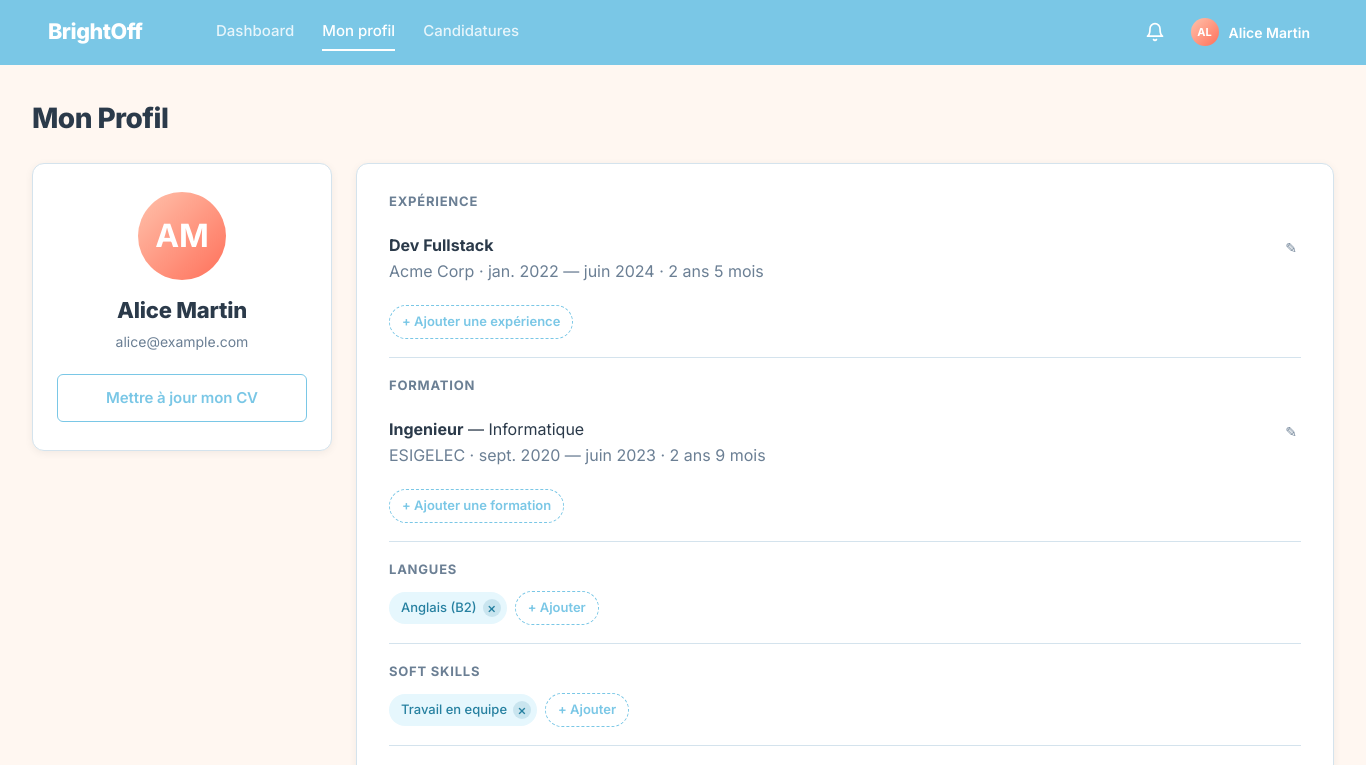
Scenario: ProfilePage › shows_new_language_chip_immediately_before_put_resolves
Expected: the heading "Langues" is shown, [389,560,457,576]
Step 1. Click the button "+ Ajouter" next to "B2" → {"x": 557, "y": 608}, box [515,591,599,624]
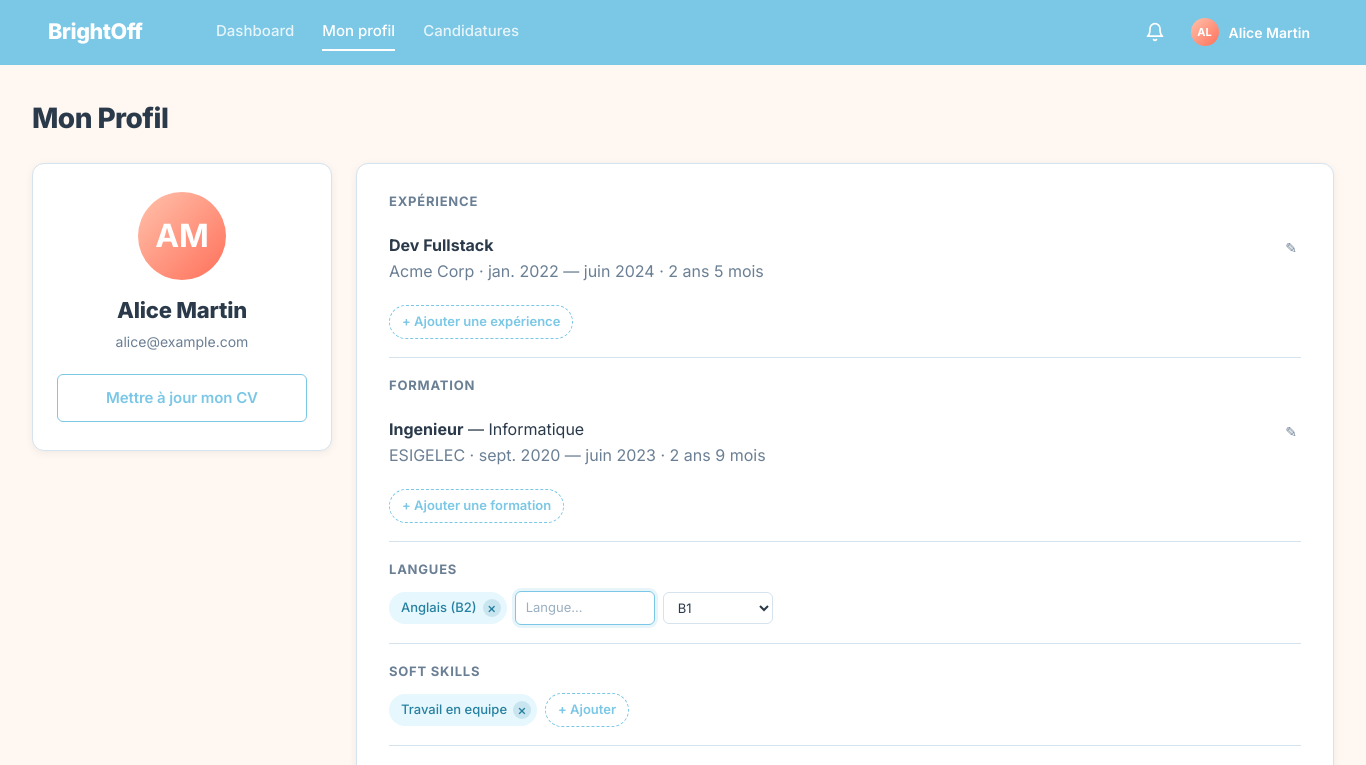
Step 2. Type "Japonais" into the field with placeholder "Langue..." → {"x": 585, "y": 608}, box [515,591,655,624]
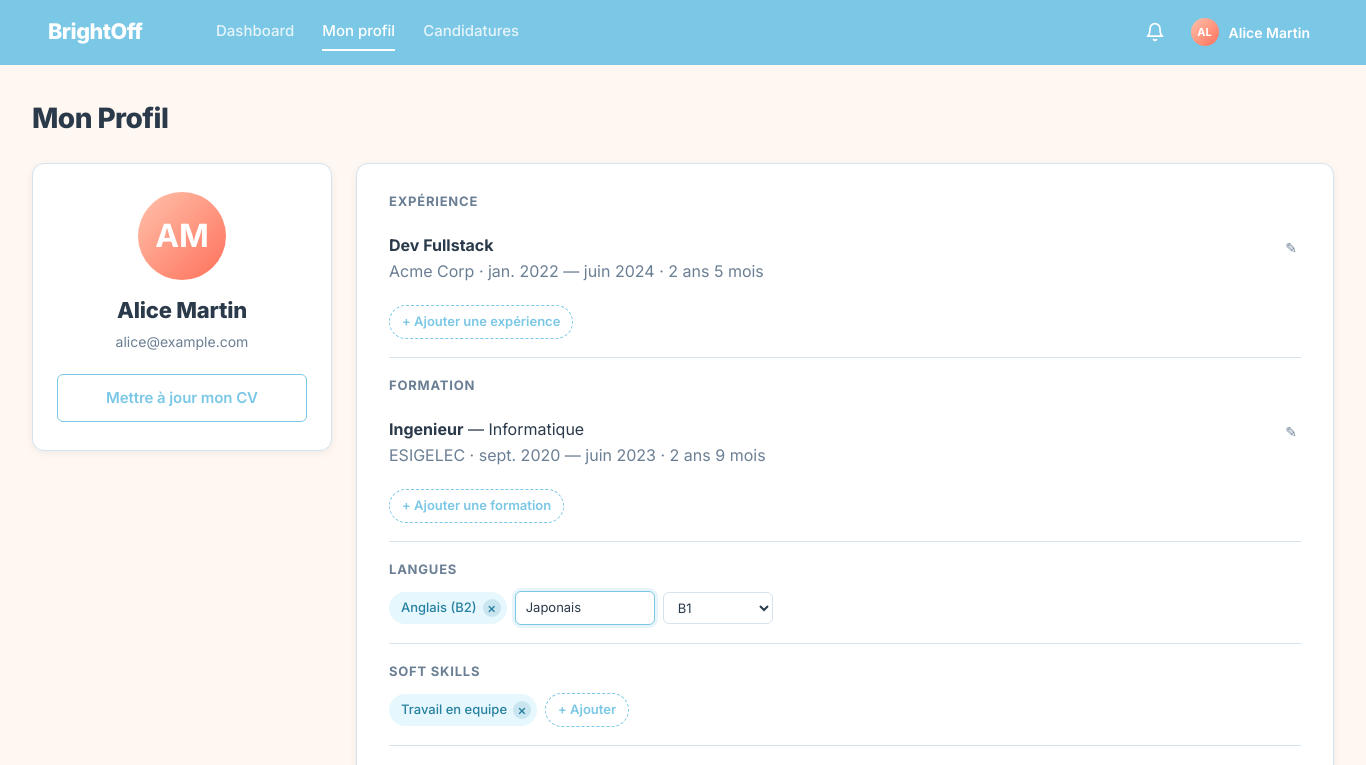
Step 3. Press Enter
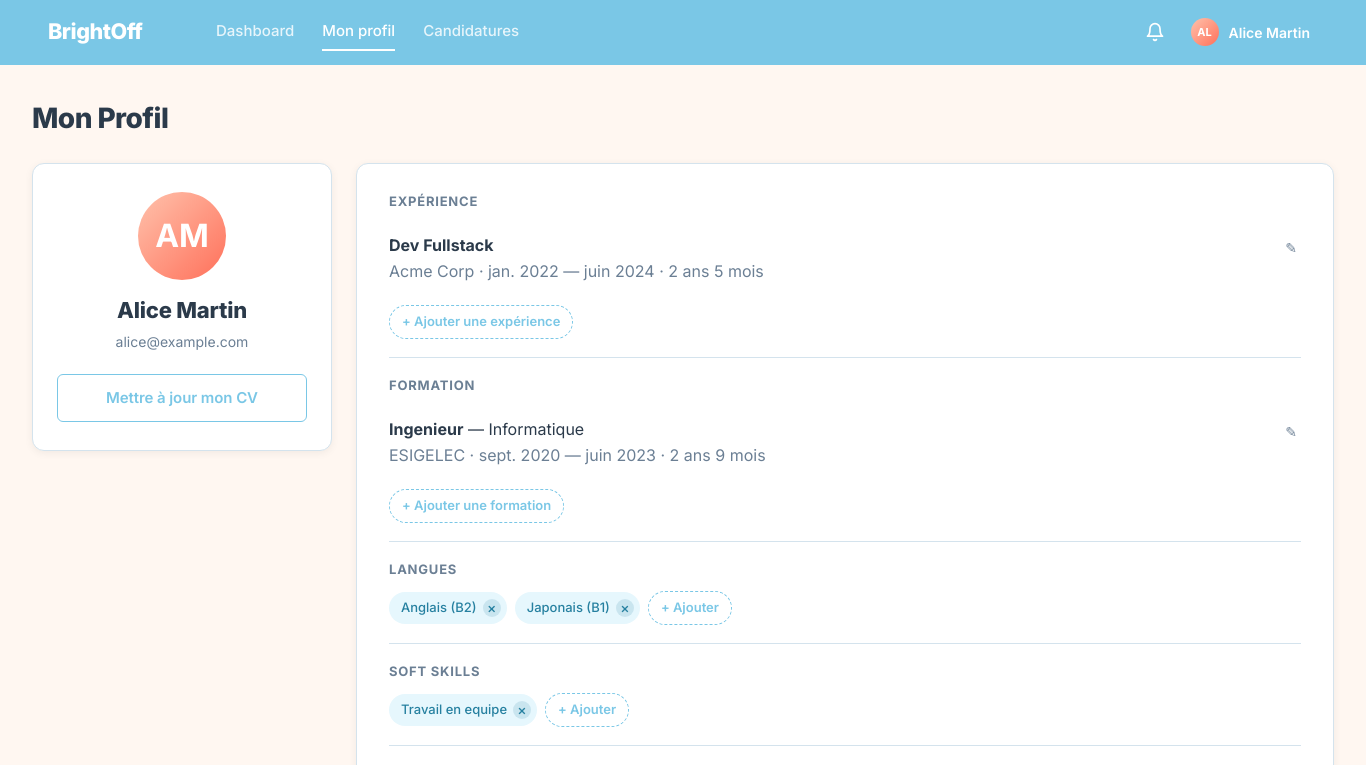
Result: the text "Japonais (B1) ×" is shown at [515,592,640,624]
